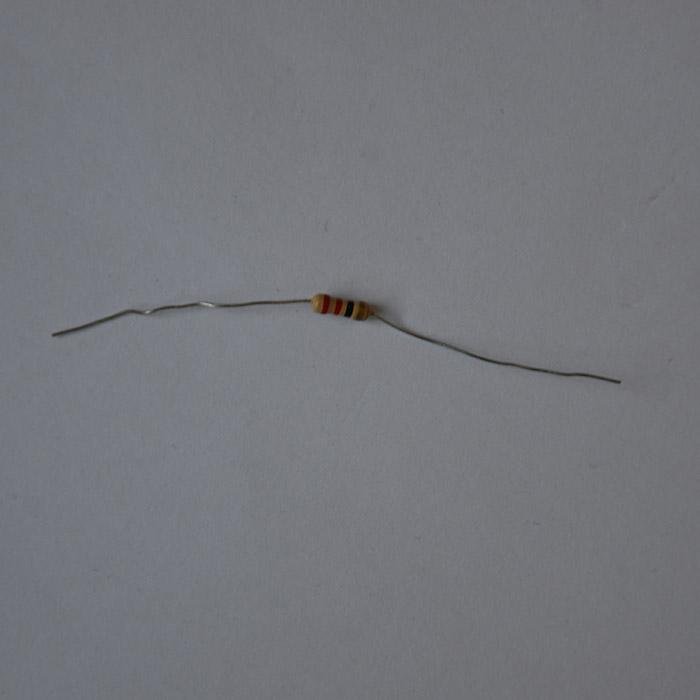resistor: (311, 292, 370, 320)
